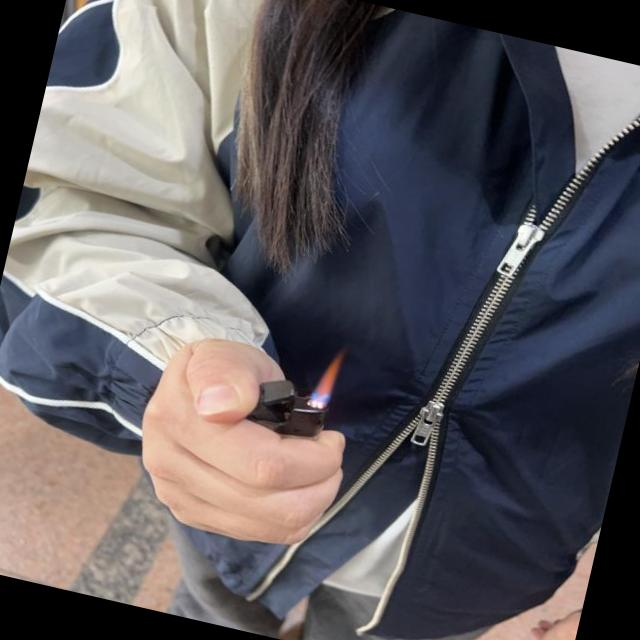Fire: (310, 348, 345, 408)
